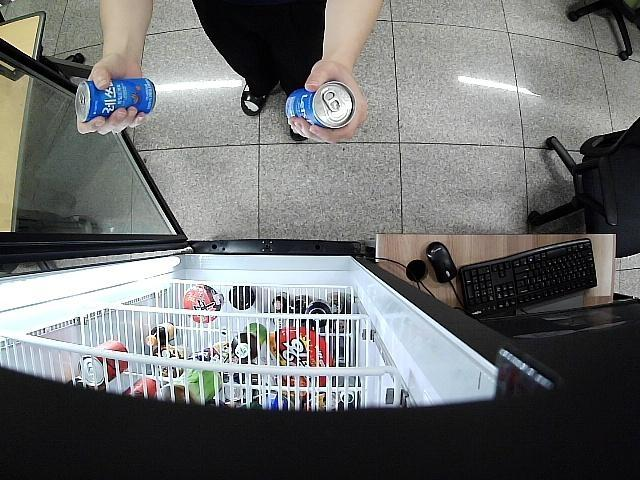15_letsbe: (75, 77, 156, 120), (286, 80, 355, 128)
